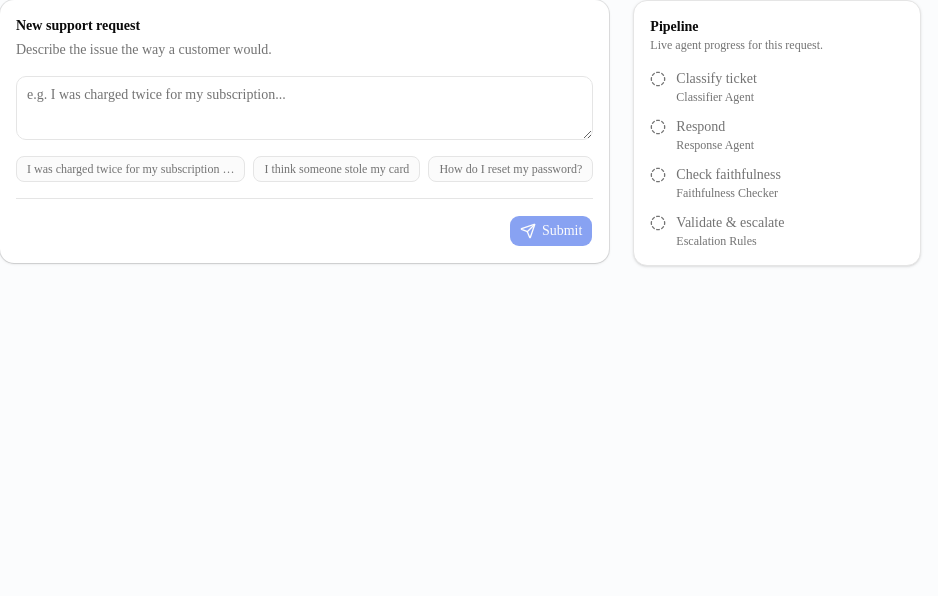
Scenario: TicketForm › submits the message and renders the classification, answer, and sources
The width and height of the screenshot is (938, 596).
Type "I was charged twice" into the text box named "Describe your issue" at (305, 108), box [16,76,593,140]
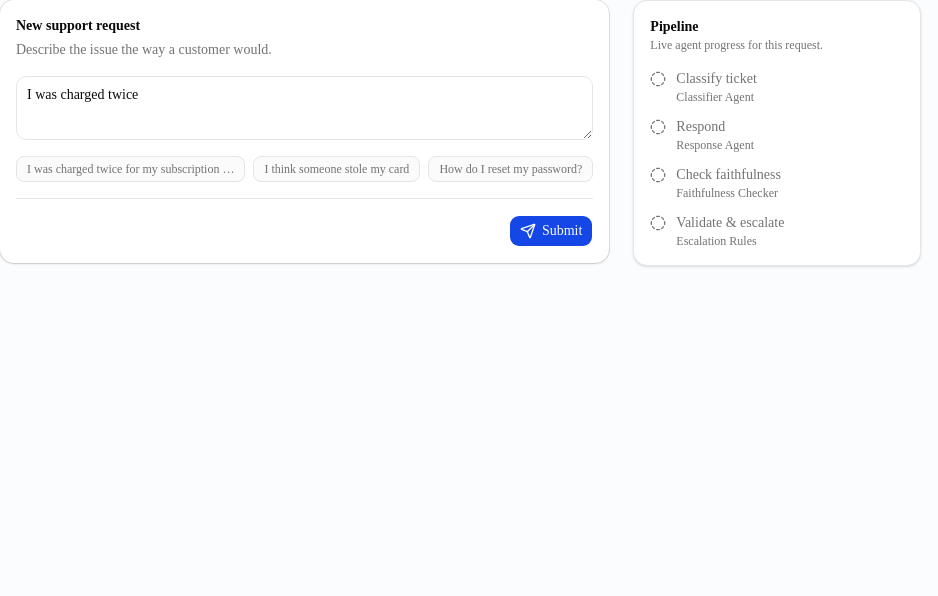
Click the button "Submit" at (551, 231), box [509,215,593,247]
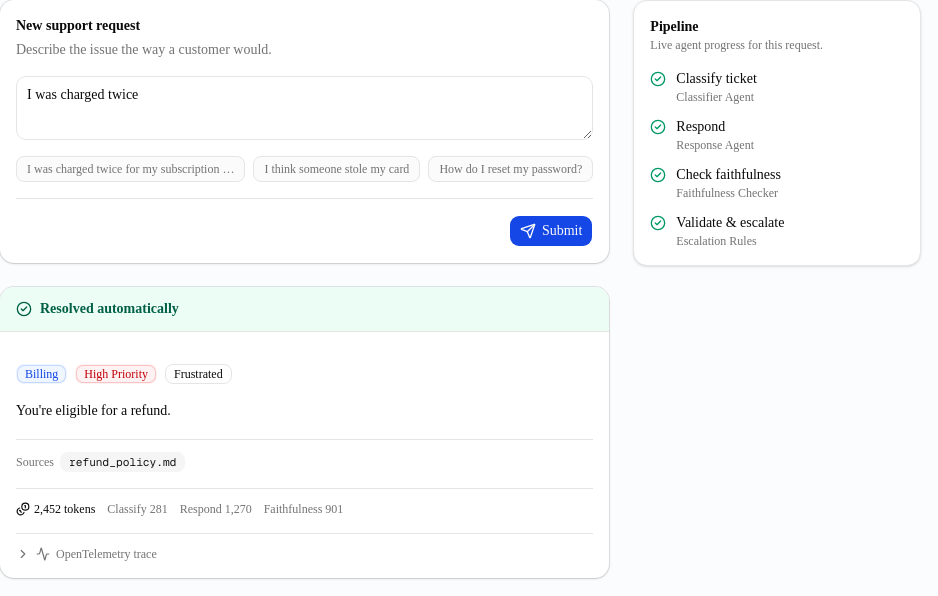
expect the text "You're eligible for a refund." is shown: met, box [16,403,171,418]
expect the icon "billing" is shown: met, box [16,364,67,384]
expect the text "high priority" is shown: met, box [75,364,157,384]
